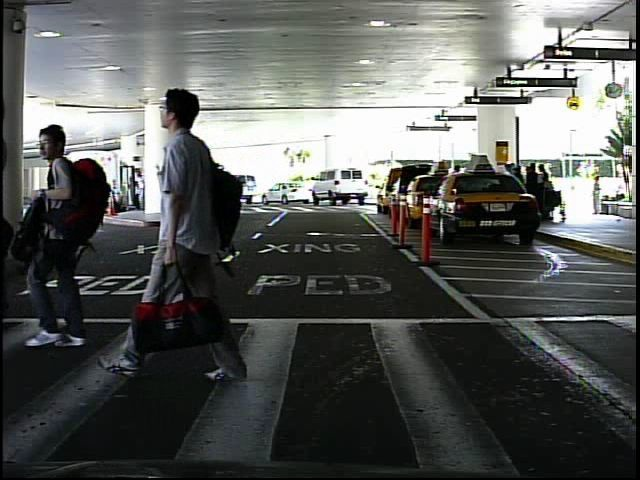person: (126, 81, 252, 398), (22, 116, 113, 354), (51, 171, 70, 220), (588, 173, 607, 219)
